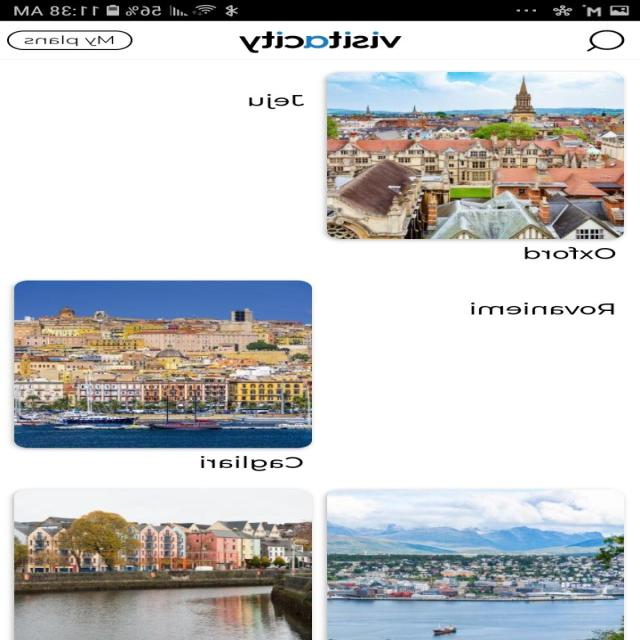Icon: (586, 29, 625, 52)
Image: (15, 280, 313, 448), (327, 72, 624, 239), (15, 489, 313, 640), (327, 489, 624, 640), (240, 31, 403, 53)
Text: (471, 302, 615, 314), (201, 455, 304, 471), (524, 247, 616, 259), (249, 93, 305, 109)
TextButton: (7, 30, 133, 50)
